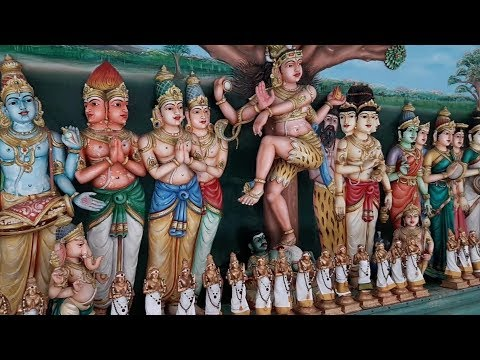Hindu Temple: (3, 50, 478, 252)
